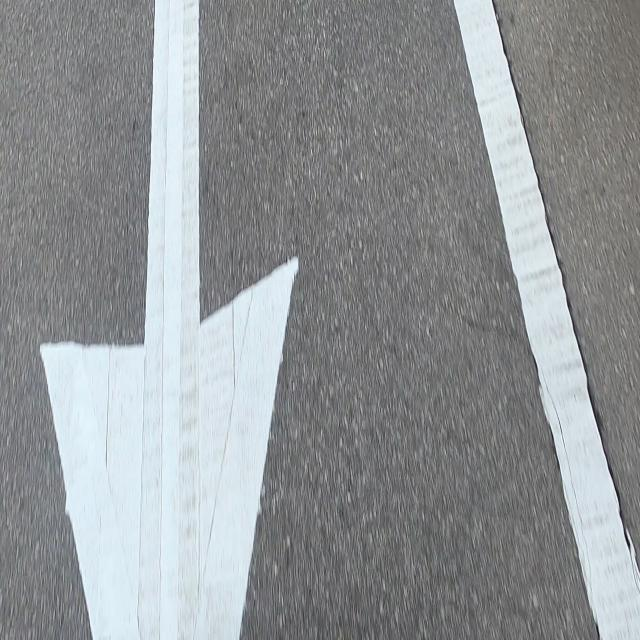Retak-Memanjang: (487, 0, 633, 558)
